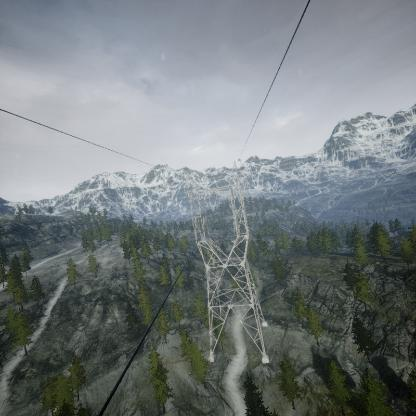tower: (174, 162, 276, 361)
